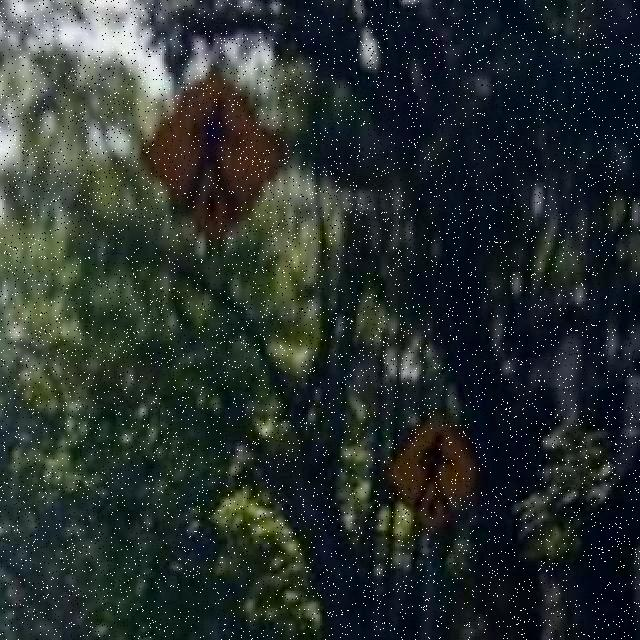Przejscie dla pieszych: (148, 79, 284, 232), (393, 421, 472, 528)
